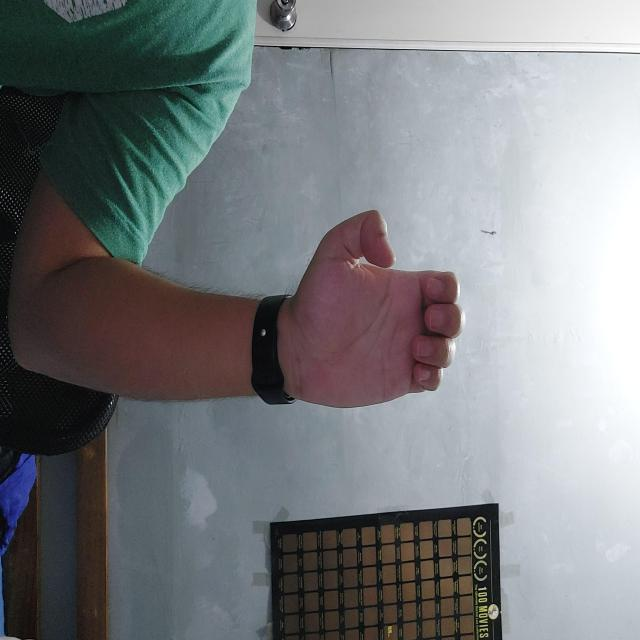E: (208, 177, 412, 341)
